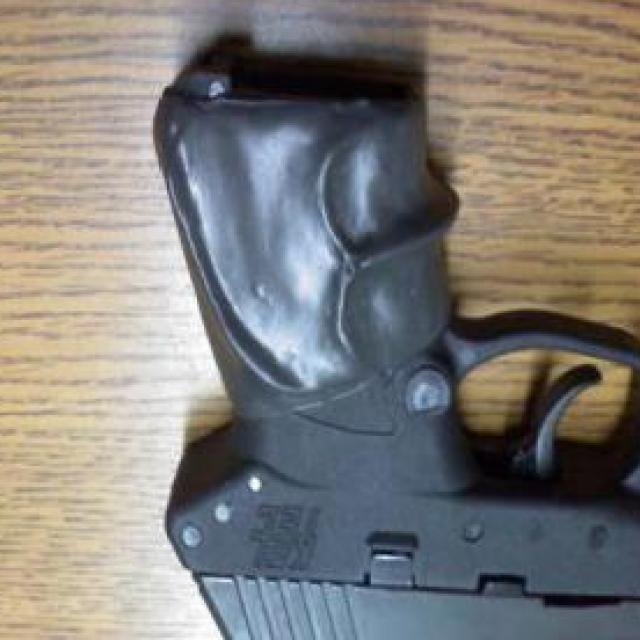pistol: (153, 48, 640, 638)
